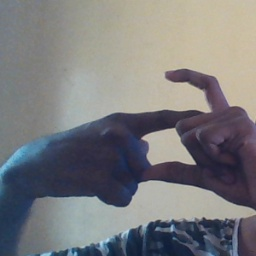E: (116, 64, 230, 186)
